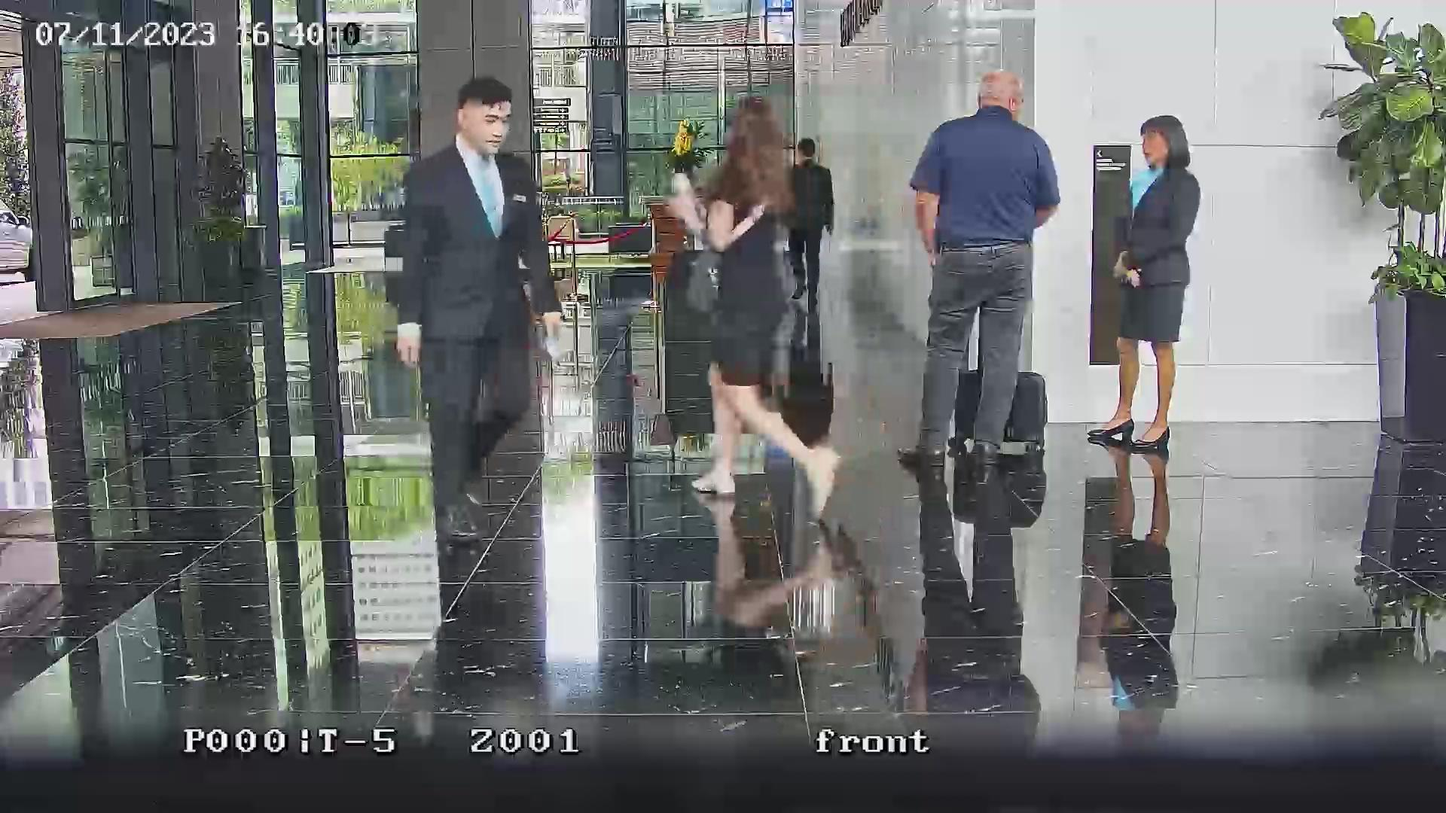person: (399, 76, 563, 542), (898, 69, 1061, 467), (691, 95, 832, 498), (1086, 114, 1200, 451), (784, 136, 834, 309)
